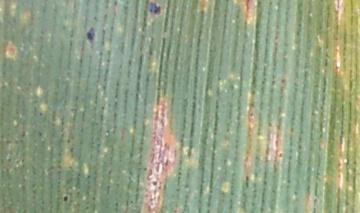tarspot: (85, 25, 96, 45), (148, 1, 162, 16), (334, 1, 342, 10), (62, 193, 69, 203), (277, 151, 284, 160)
